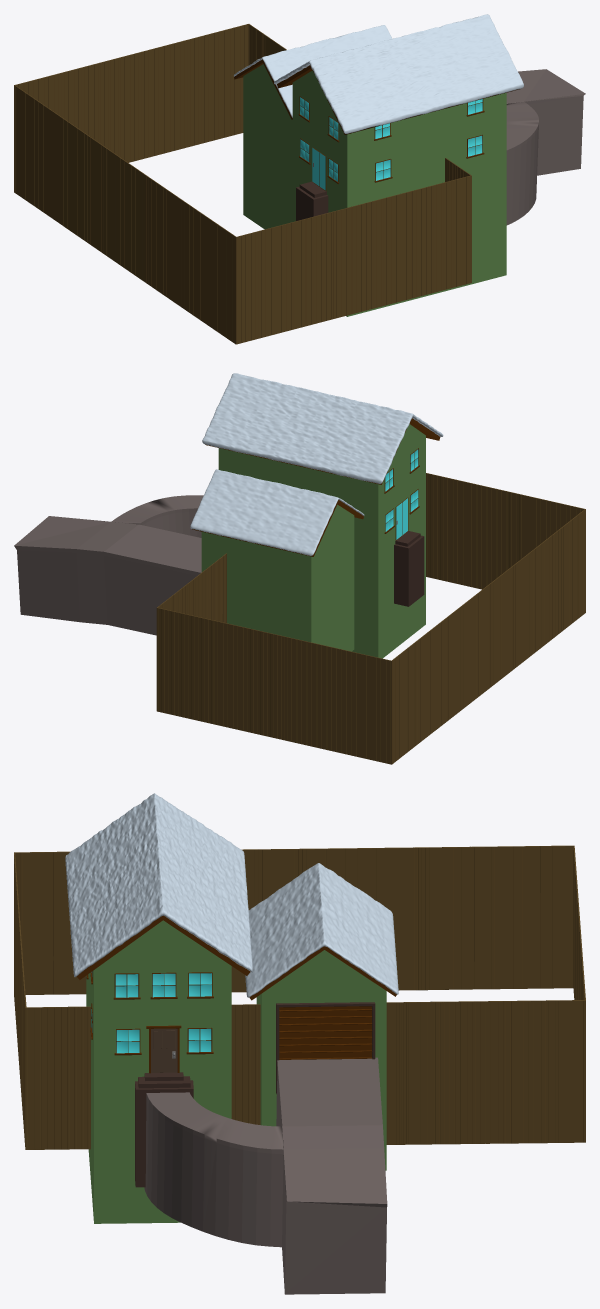
File: chefshouse_compressed.glb
The picture shows the model from 3 angles, top to bottom: view 1: azimuth 30°, elevation 25°; view 2: azimuth 150°, elevation 25°; view 3: azimuth 270°, elevation 25°; orthographic projection. The views are drawn at different scales.
Visible parts, largest first — view 1: Cube.853, Cube.848, Cube.845, Cube.865, Cube.847, Cube.852; view 2: Cube.853, Cube.848, Cube.845, Cube.865, Cube.847, Cube.852; view 3: Cube.853, Cube.865, Cube.845, Cube.848, Cube.847, Cube.852, Cube.850.
Part boxes in pixels (x1,y1,x2,y2): Cube.853: [14, 24, 471, 344]; Cube.848: [243, 64, 506, 316]; Cube.845: [234, 14, 523, 133]; Cube.865: [506, 69, 585, 225]; Cube.847: [234, 59, 519, 220]; Cube.852: [300, 97, 482, 190]; Cube.853: [156, 473, 585, 764]; Cube.848: [201, 424, 425, 658]; Cube.845: [190, 373, 443, 555]; Cube.865: [14, 495, 203, 635]; Cube.847: [192, 418, 440, 606]; Cube.852: [385, 449, 418, 539]; Cube.853: [14, 845, 585, 1149]; Cube.865: [144, 1057, 387, 1294]; Cube.845: [65, 793, 398, 997]; Cube.848: [86, 920, 386, 1223]; Cube.847: [77, 915, 396, 1187]; Cube.852: [91, 971, 211, 1053]; Cube.850: [151, 1028, 177, 1072].
Size of the model in its own units: 6.02 by 2.99 by 4.86.
